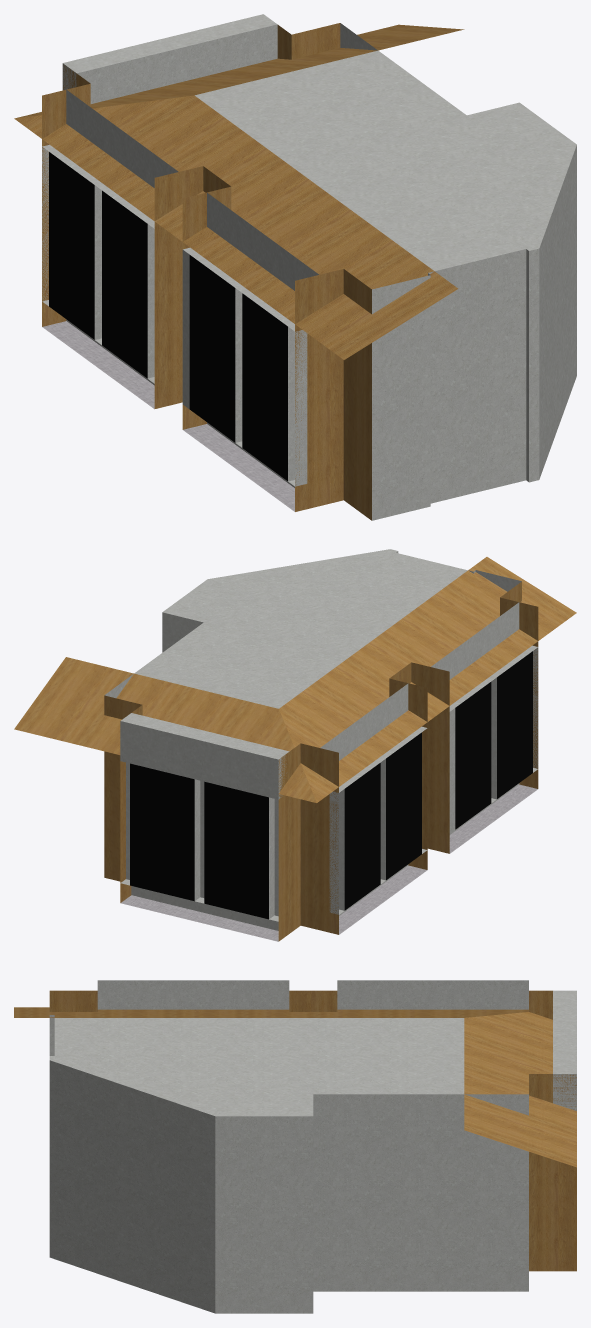
The model's file is Export_Simple Room.fbx.
3 views of the same model, one above another, from view 1: azimuth 30°, elevation 25°; view 2: azimuth 150°, elevation 25°; view 3: azimuth 270°, elevation 25° (orthographic). The views are drawn at different scales.
Visible parts, largest first — view 1: Walls, Ceiling, Angled Ceiling, Glass, Column, Floor; view 2: Angled Ceiling, Glass, Ceiling, Walls, Column, Floor; view 3: Walls, Ceiling, Angled Ceiling, Column.
Part boxes in pixels (bbox=[...]): Walls: bbox=[42, 14, 576, 520]; Ceiling: bbox=[195, 50, 576, 270]; Angled Ceiling: bbox=[14, 24, 464, 359]; Glass: bbox=[49, 152, 287, 480]; Column: bbox=[42, 23, 371, 520]; Floor: bbox=[42, 321, 294, 511]; Angled Ceiling: bbox=[14, 557, 576, 802]; Glass: bbox=[130, 651, 532, 919]; Ceiling: bbox=[134, 549, 467, 708]; Walls: bbox=[104, 551, 538, 930]; Column: bbox=[104, 581, 538, 941]; Floor: bbox=[121, 784, 537, 941]; Walls: bbox=[49, 980, 576, 1313]; Ceiling: bbox=[49, 1018, 464, 1116]; Angled Ceiling: bbox=[14, 1007, 576, 1167]; Column: bbox=[49, 990, 576, 1271].
Bounding box in the file's own units: 4815 × 7159 × 2769.
4 materials, 3 textured.
